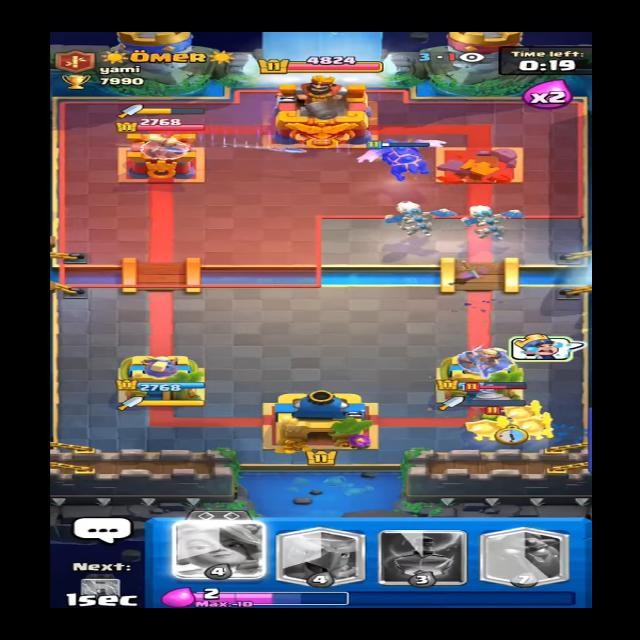Goblindrill: (463, 382, 535, 426)
